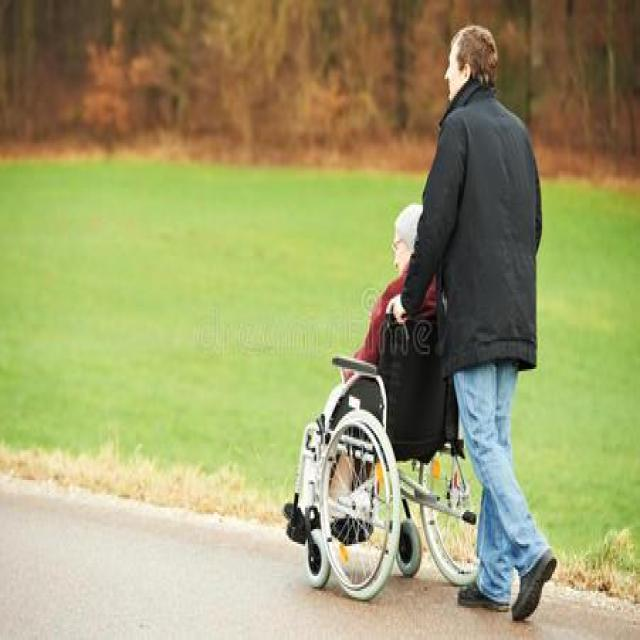wheelchairs: (278, 334, 502, 602)
